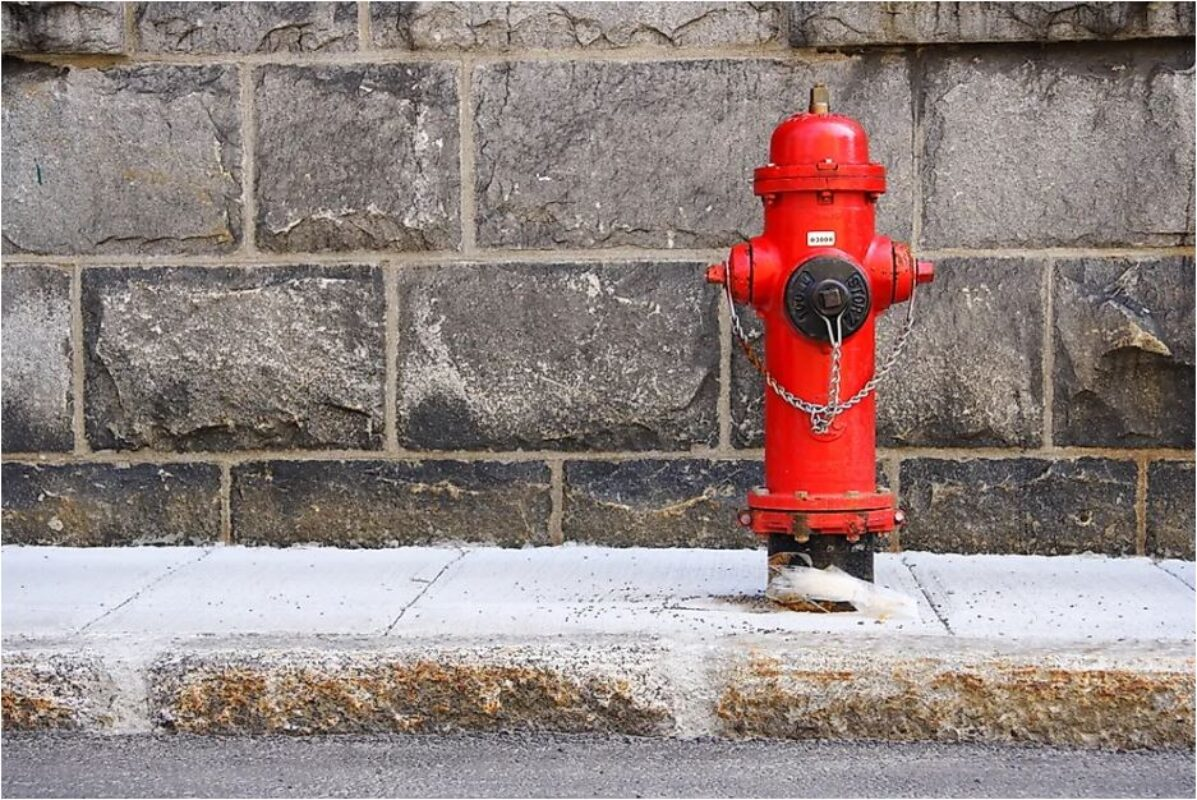FireHydrant: (691, 84, 962, 611)
